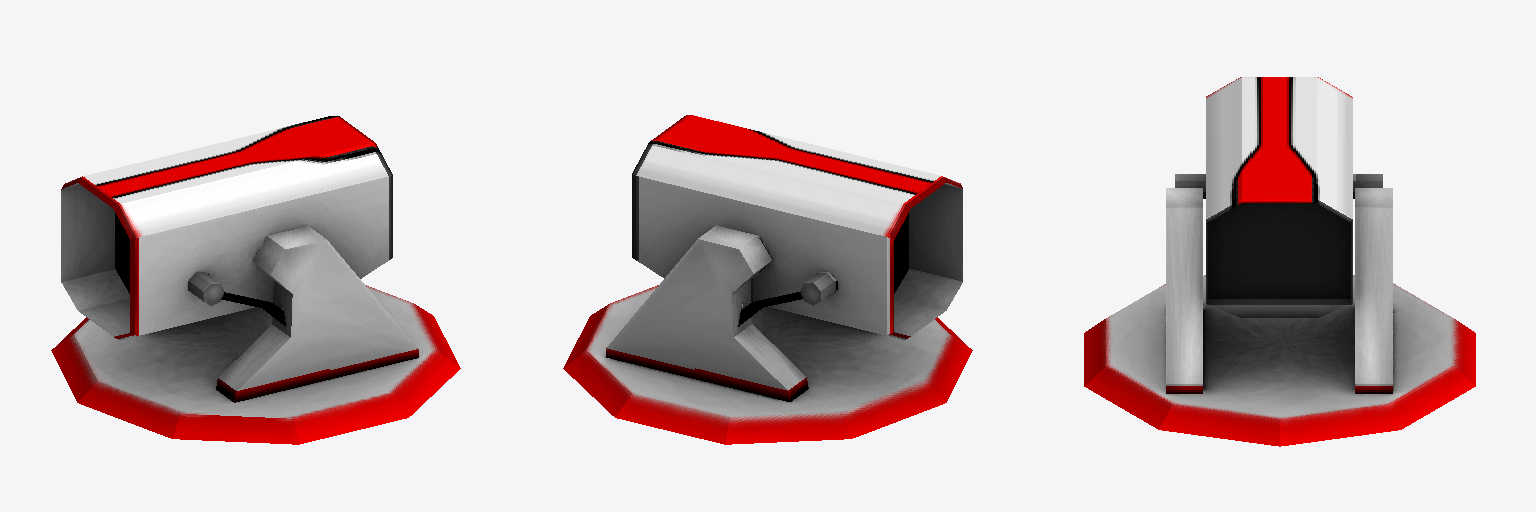
The picture shows the model from 3 angles: view 1: azimuth 30°, elevation 25°; view 2: azimuth 150°, elevation 25°; view 3: azimuth 270°, elevation 25°; orthographic projection.
Visible parts, largest first — view 1: Cube; view 2: Cube; view 3: Cube.
Boxes of the visible parts, box(x1,y1,x2,y2) form: Cube: box(51, 116, 460, 444); Cube: box(563, 115, 972, 444); Cube: box(1084, 77, 1475, 446).
Size of the model in its own units: 11.57 by 6.43 by 11.01.
1 materials, 1 textured.